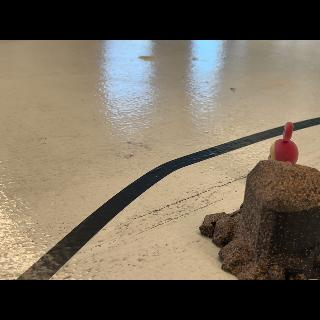teletubby: (268, 122, 298, 164)
